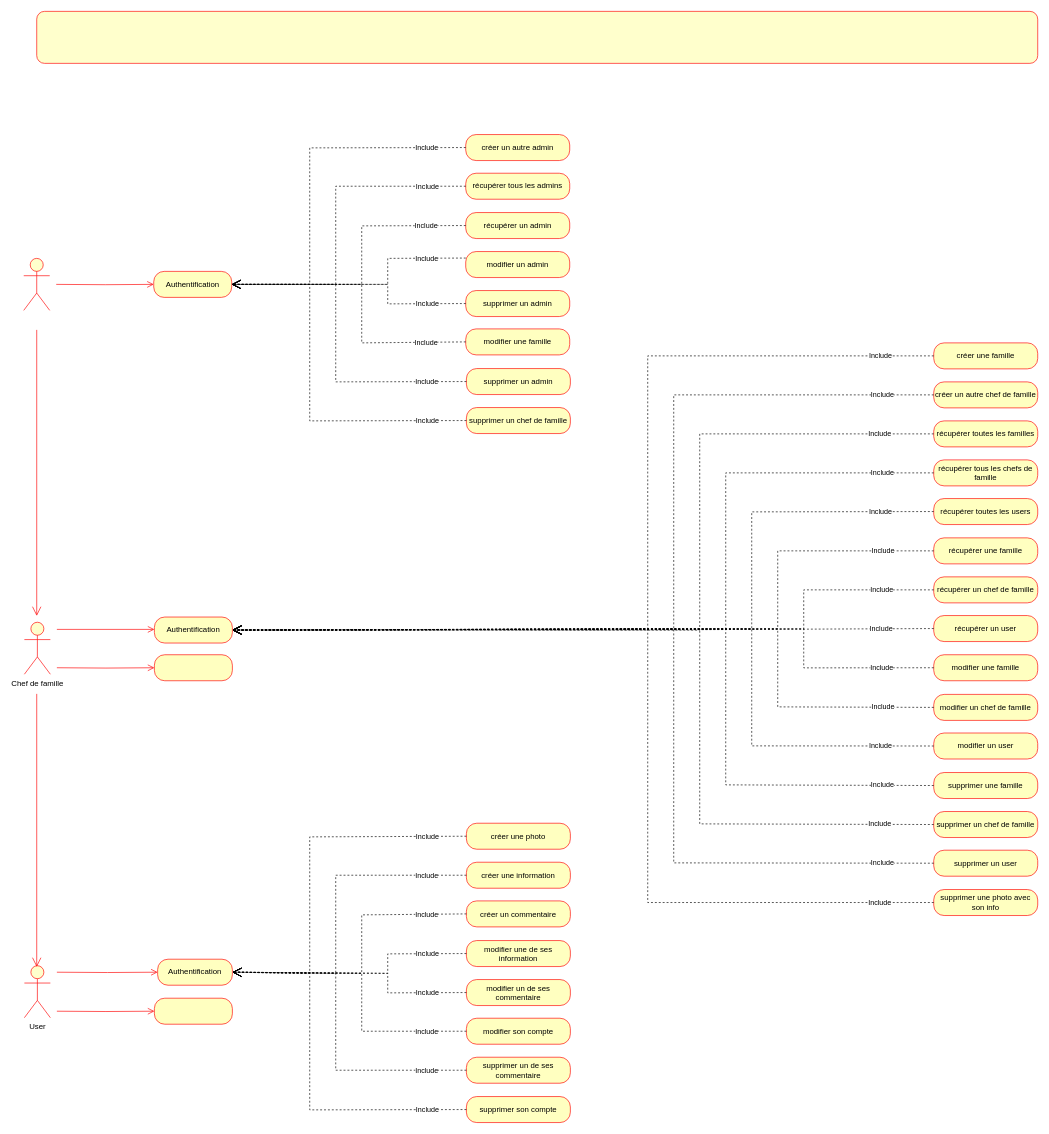
Some shapes in this 1049 by 1134 pixel diagram are drawn without their labels. The shapes that lost their labels are listed below. From the top down, each one's box as (x1, y1, x2, y2) in pixels, then its label:
(36, 11, 1038, 63): PROJET CHEF D'OEUVRE User Case : Voyager dans le temps
(23, 258, 50, 310): Admin
(154, 654, 232, 681): create family
(154, 998, 232, 1024): créer un compte
